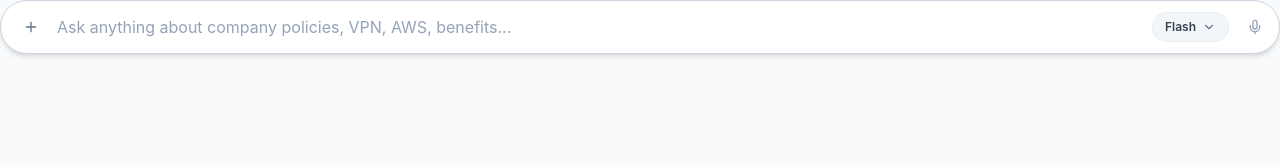
ChatOmnibox › opens quick-context attach menu with document upload and MCP links
Click the button named "Attach context or documents" at (31, 27), box [15,11,47,43]
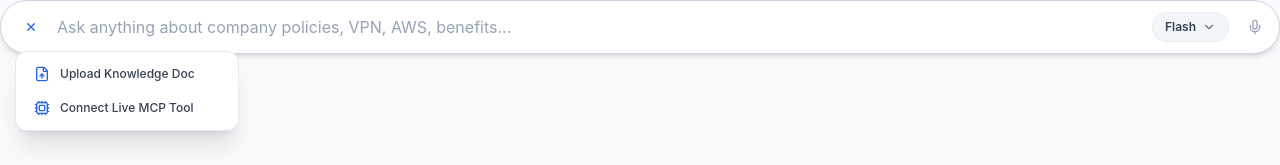
Check: the button named "Attach context or documents" is expanded, box [15,11,47,43]
